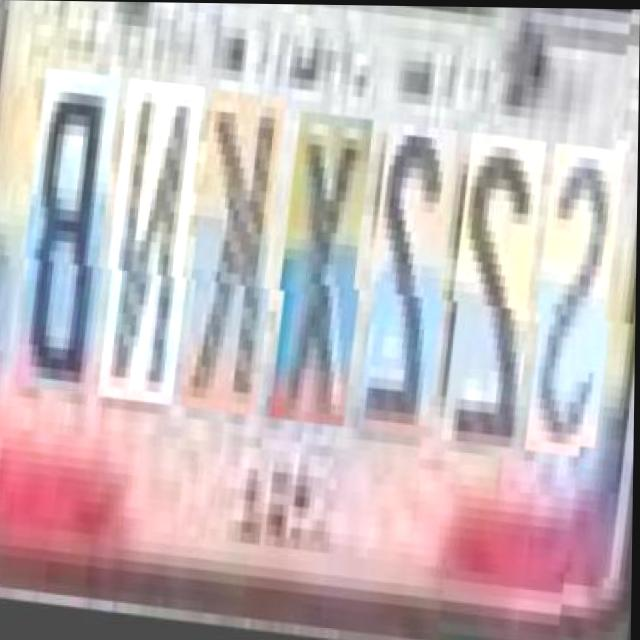2: (449, 136, 551, 450), (365, 128, 462, 442)
b: (21, 83, 125, 408)
k: (187, 99, 292, 424)
n: (104, 92, 208, 416)
s: (532, 144, 629, 458)
x: (277, 119, 379, 433)
